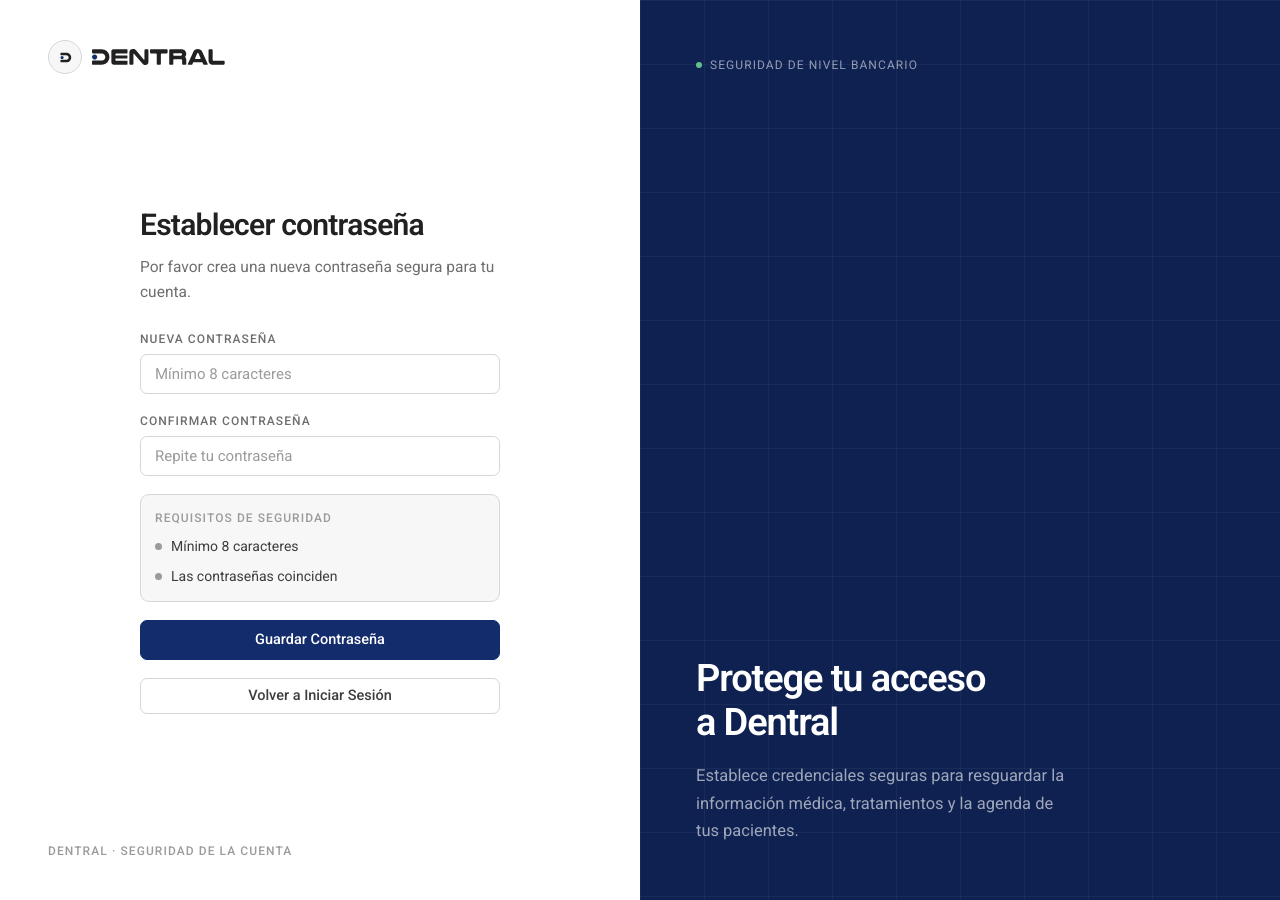
Auth Module — Set Password Page › validates password length dynamically and shows inline errors
# Type less than 8 characters
Type "short" into the password field labelled "Nueva contraseña" at (320, 374), box x1=140 y1=354 x2=500 y2=394
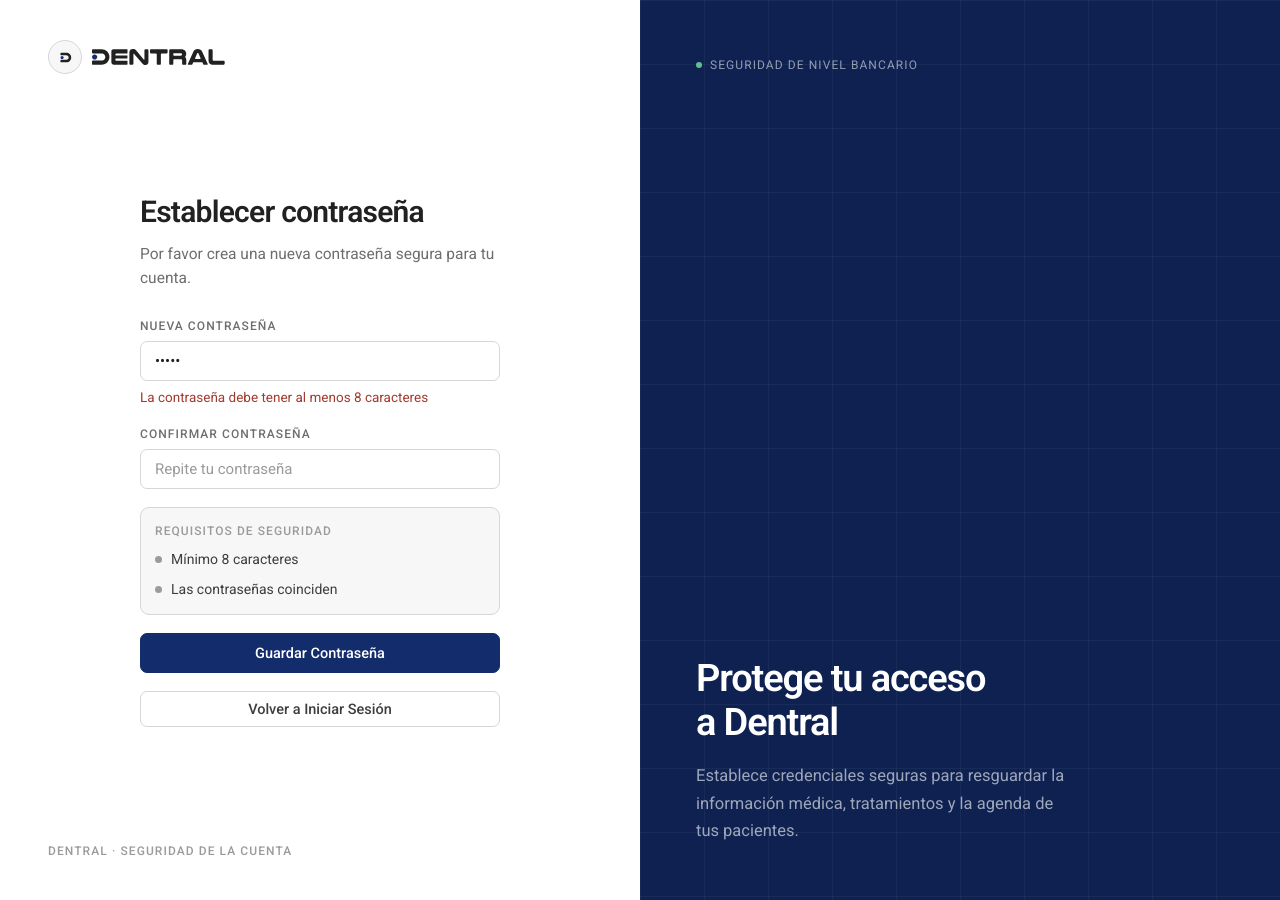
Expected: the text "La contraseña debe tener al menos 8 caracteres" is shown, x1=140 y1=389 x2=428 y2=405
# Type 8 or more characters
Type "securepwd123" into the password field labelled "Nueva contraseña" at (320, 361), box x1=140 y1=341 x2=500 y2=381
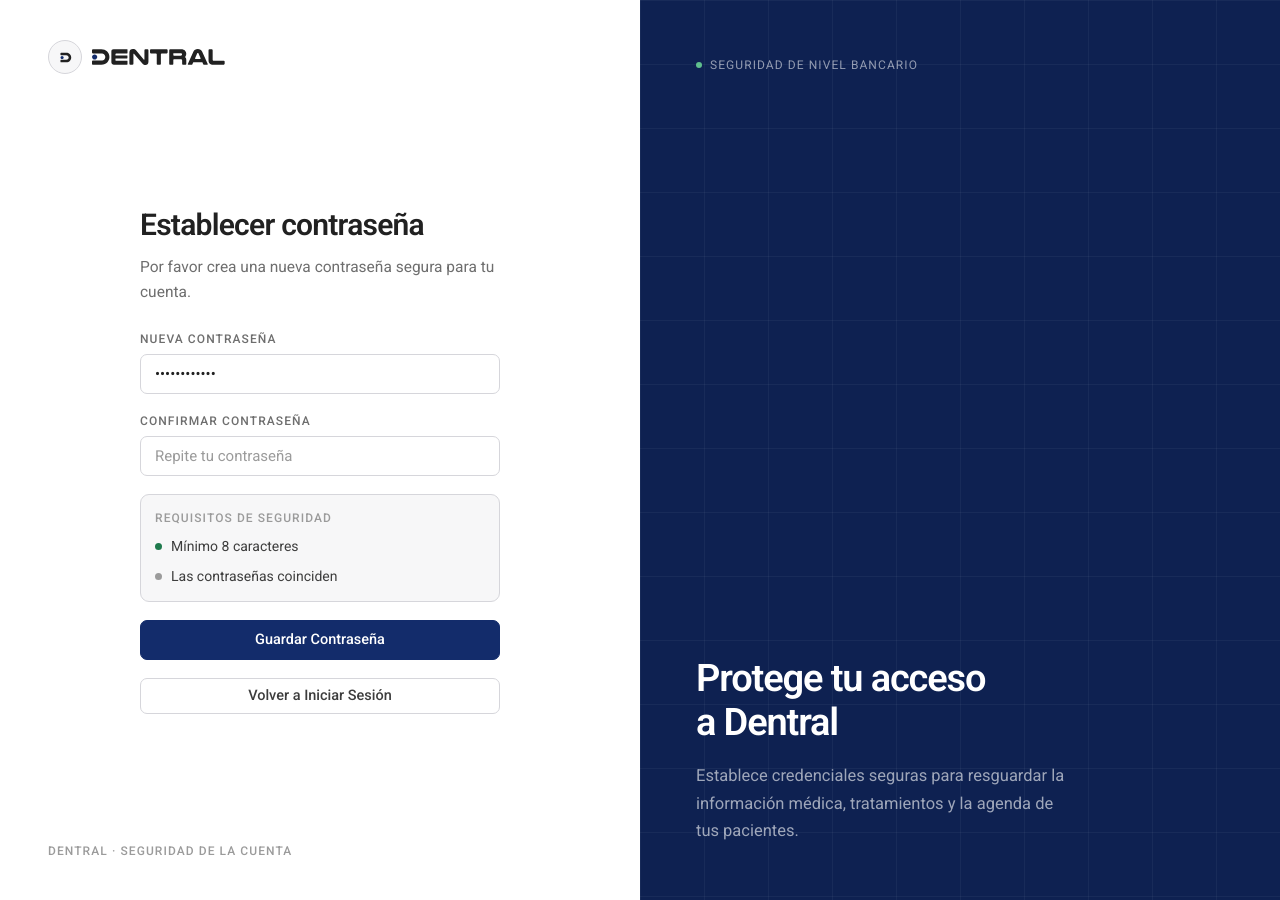
Expected: the text "La contraseña debe tener al menos 8 caracteres" is gone
